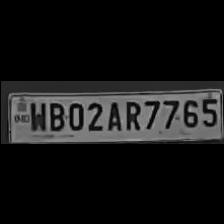0: (64, 98, 84, 130)
2: (83, 98, 103, 132)
5: (198, 93, 218, 126)
6: (178, 96, 198, 128)
7: (140, 96, 160, 130), (158, 96, 178, 128)
A: (103, 97, 121, 130)
B: (44, 99, 64, 131)
R: (121, 97, 141, 131)
W: (26, 98, 44, 132)
